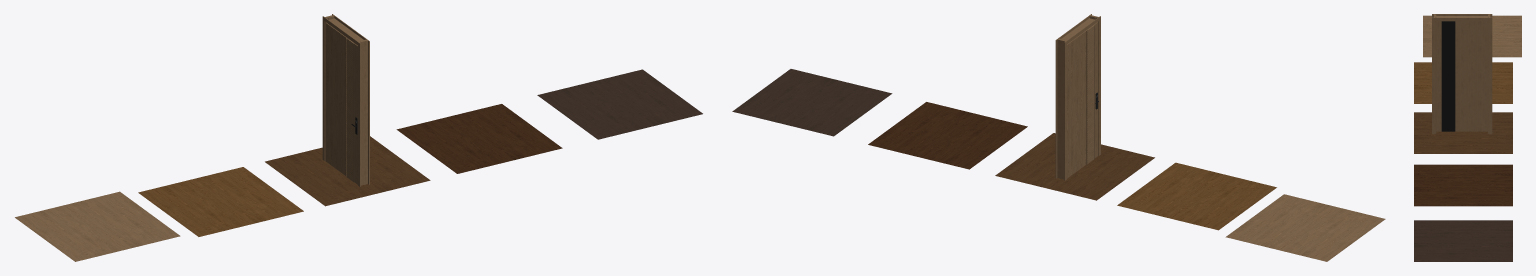
Rendered from DOOR_V4.gltf.
The picture shows the model from 3 angles, left to right: view 1: azimuth 30°, elevation 25°; view 2: azimuth 150°, elevation 25°; view 3: azimuth 270°, elevation 25°; orthographic projection. The views are drawn at different scales.
Visible parts, largest first — view 1: door, tttt.001, ttttttt.002, ttttttt.001, ttt.001, tttttt.001; view 2: door, tttt.001, ttttttt.002, ttttttt.001, ttt.001, tttttt.001; view 3: door, ttt.001, tttt.001, tttttt.001, ttttttt.002, ttttttt.001.
Part boxes in pixels (box(x1,y1,x2,y2)): door: box(322, 14, 369, 186); tttt.001: box(537, 69, 702, 139); ttttttt.002: box(15, 191, 180, 261); ttttttt.001: box(138, 167, 303, 236); ttt.001: box(396, 104, 562, 173); tttttt.001: box(265, 136, 430, 206); door: box(1055, 14, 1100, 180); tttt.001: box(732, 69, 892, 136); ttttttt.002: box(1225, 194, 1385, 261); ttttttt.001: box(1117, 162, 1276, 230); ttt.001: box(868, 102, 1027, 169); tttttt.001: box(995, 133, 1154, 200); door: box(1432, 14, 1492, 134); ttt.001: box(1414, 164, 1512, 206); tttt.001: box(1414, 220, 1512, 261); tttttt.001: box(1414, 112, 1512, 153); ttttttt.002: box(1423, 15, 1521, 57); ttttttt.001: box(1414, 62, 1512, 103).
Size of the model in its own units: 11.8 by 2.6 by 2.18.
8 materials, 7 textured.
